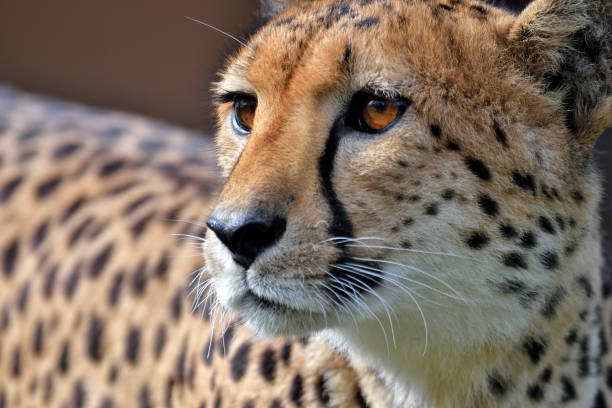cheetah: (196, 2, 612, 385)
